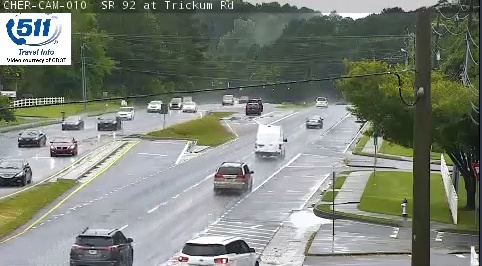car: (70, 229, 133, 266), (214, 163, 251, 191), (306, 115, 323, 129)
van: (256, 124, 284, 157)
